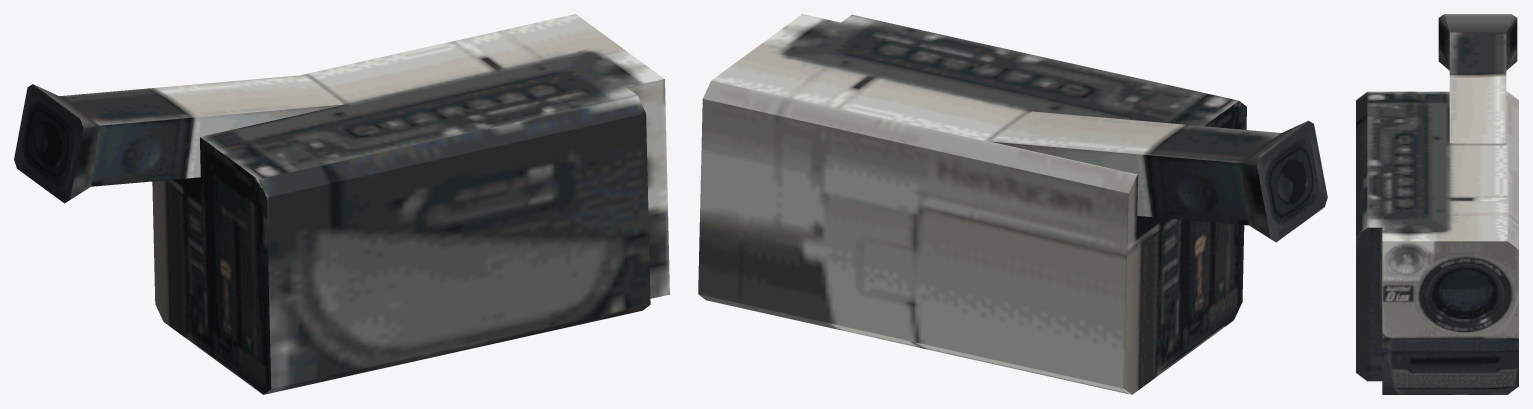
The model's file is Я снимаю нафиг, вот это прикол.fbx.
3 views of the same model, side by side, from view 1: azimuth 30°, elevation 25°; view 2: azimuth 150°, elevation 25°; view 3: azimuth 270°, elevation 25° (orthographic). The views are drawn at different scales.
Visible parts, largest first — view 1: Recorder; view 2: Recorder; view 3: Recorder.
Boxes of the visible parts, left/top/right/bottom form: Recorder: left=14, top=14, right=669, bottom=394; Recorder: left=698, top=14, right=1327, bottom=394; Recorder: left=1356, top=14, right=1518, bottom=394.
Bounding box in the file's own units: 28.69 × 13.5 × 10.27.
1 material, 1 textured.
